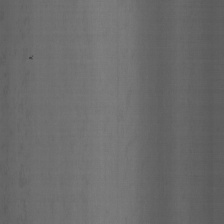inclusion: (27, 52, 34, 63)
